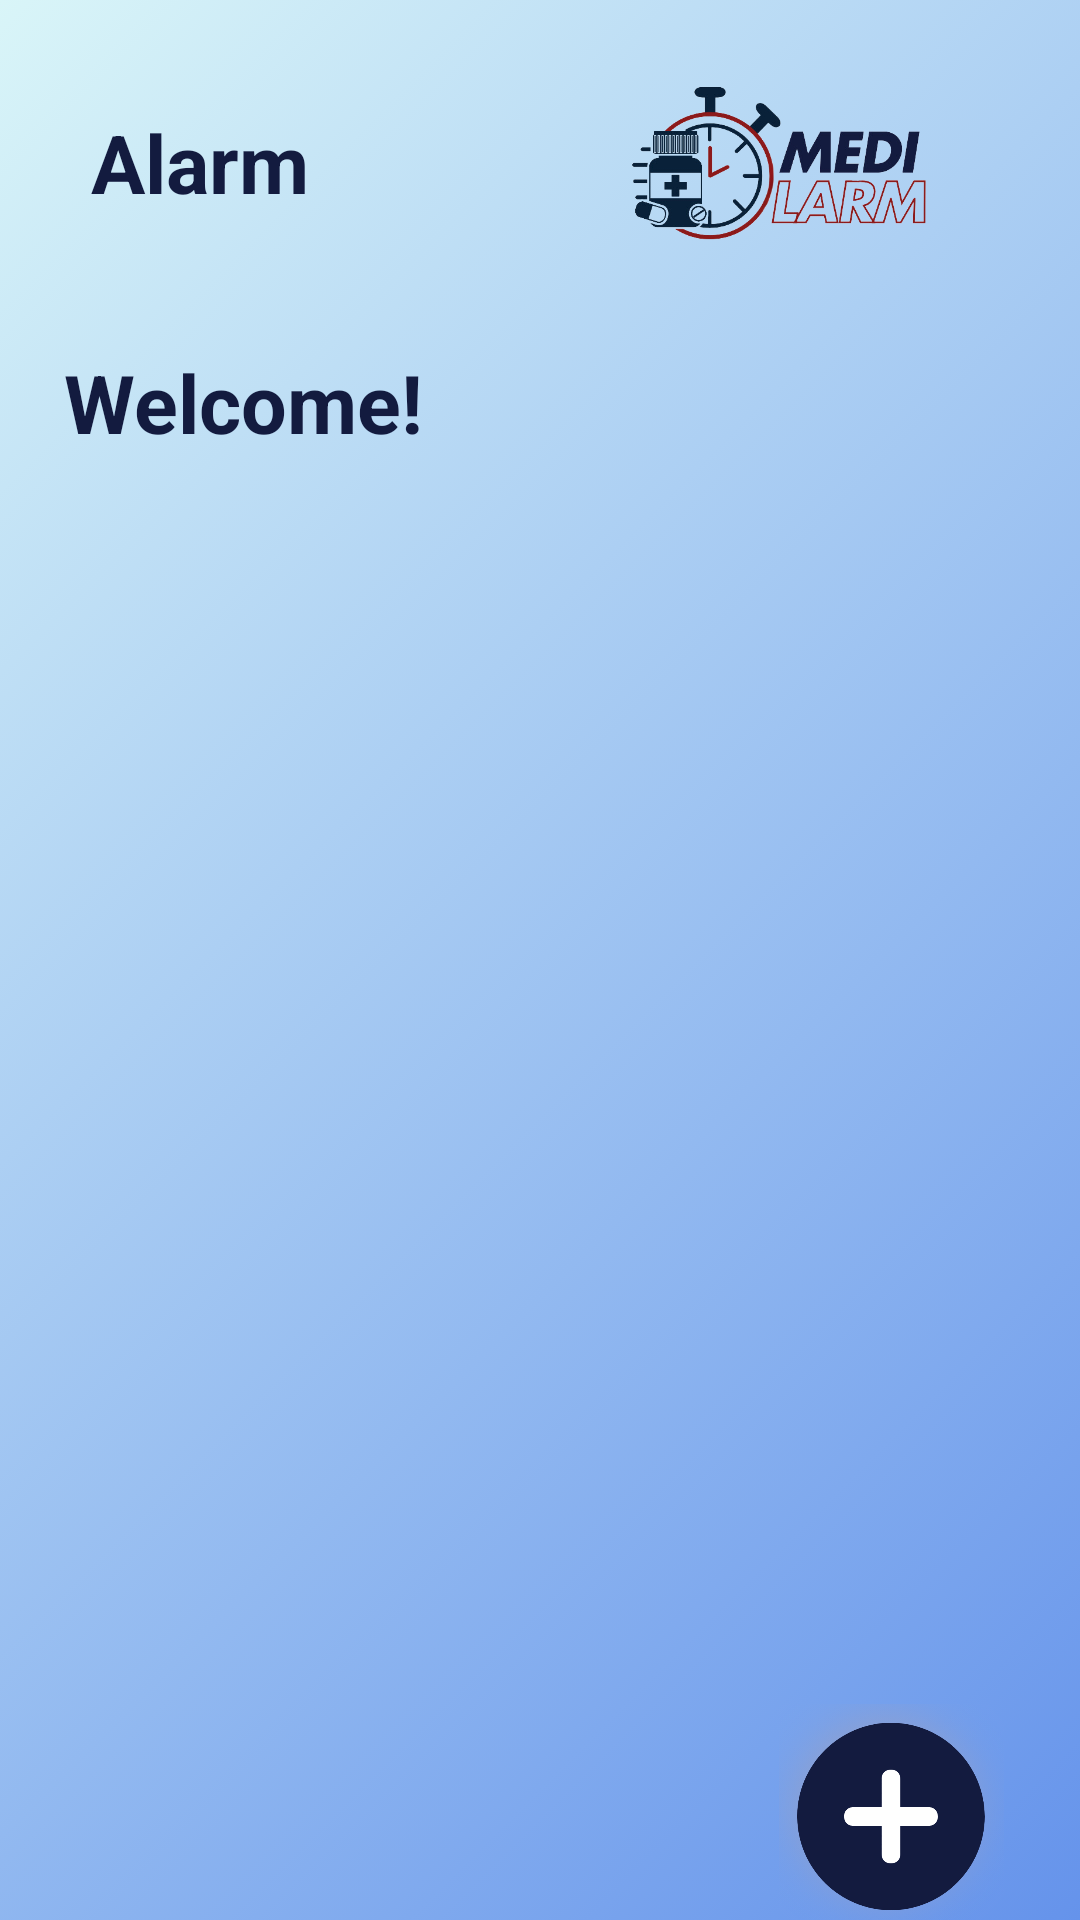

Point at icon controls on the screen. Image size 1080x1920, points as (x=x, y=y).
add: (x=891, y=1816)
